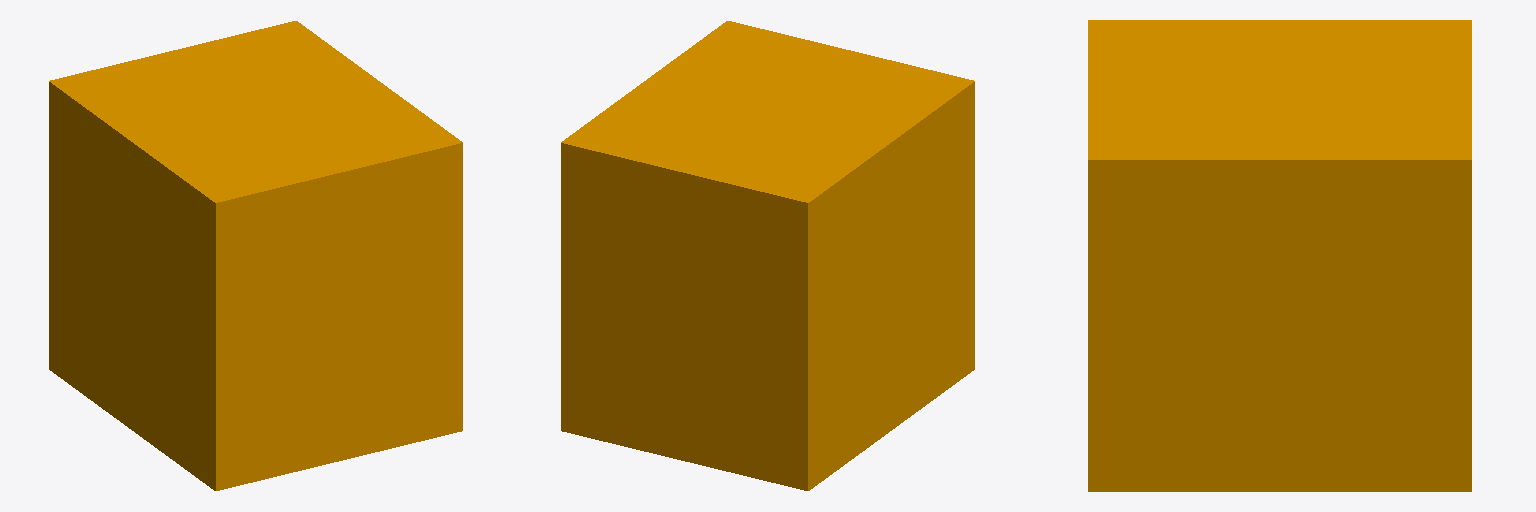
URDF robot description (object):
<robot name="object">
  <link name="object">
    <visual>
      <origin xyz="0 0 0" />
      <geometry>
        <box size="0.07200000000000001 0.08400000000000002 0.08" />
      </geometry>
    </visual>

    <collision>
      <origin xyz="0 0 0" />
      <geometry>
        <box size="0.07200000000000001 0.08400000000000002 0.08" />
      </geometry>
    </collision>

    <inertial>
      <mass value="0.05" />
      <inertia ixx="0.0001" ixy="0.0" ixz="0.0" iyy="0.0001" iyz="0.0" izz="0.0001" />
    </inertial>
  </link>
</robot>

--- What the picture shows (computed from the rendered views, not written in the file) ---
3 views of the same robot in one strip: view 1: azimuth 30°, elevation 25°; view 2: azimuth 150°, elevation 25°; view 3: azimuth 270°, elevation 25° (orthographic).
Robot: object — 1 links, 0 joints (none); root link object; default pose: every joint at zero.
Visible links, largest first — view 1: object; view 2: object; view 3: object.
Boxes of the visible links, bbox=[...] form: object: bbox=[49, 21, 462, 490]; object: bbox=[561, 21, 974, 490]; object: bbox=[1088, 20, 1471, 491].
Bounding box of the posed robot: 0.072 × 0.084 × 0.08 m (x, y, z).
Geometry: primitives only (box / cylinder / sphere), no mesh files.